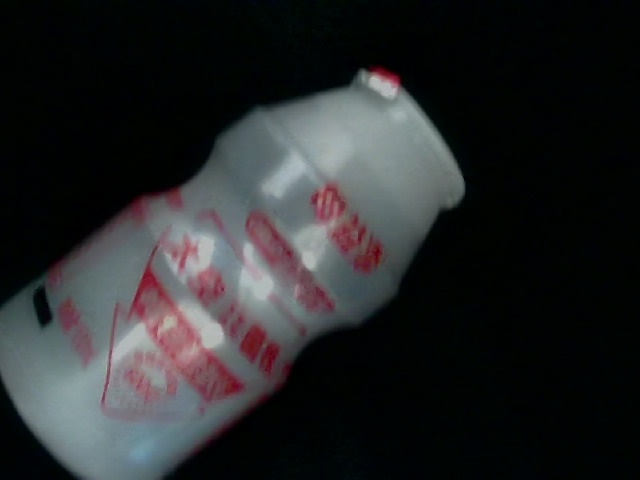CYLJ: (208, 376, 336, 477)
